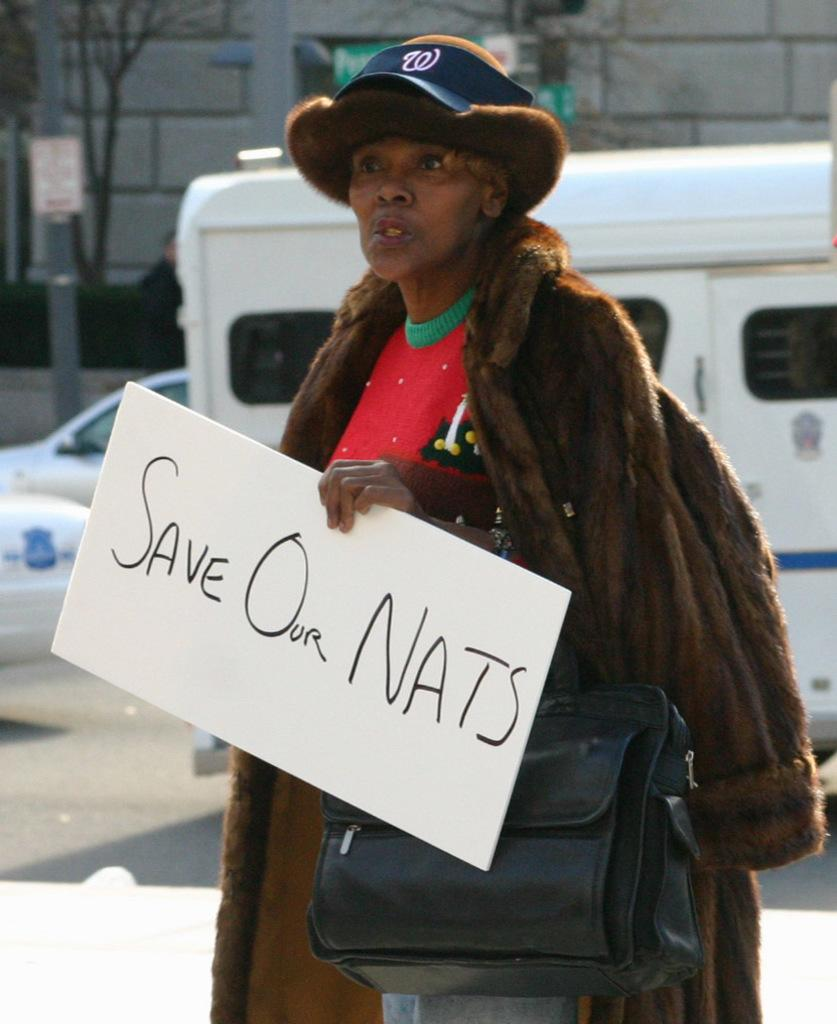Hat: (287, 32, 569, 226)
